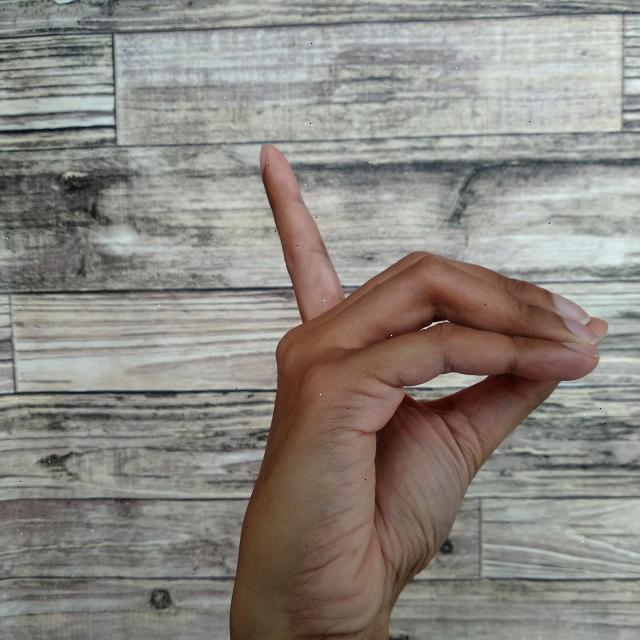D: (230, 138, 610, 640)
